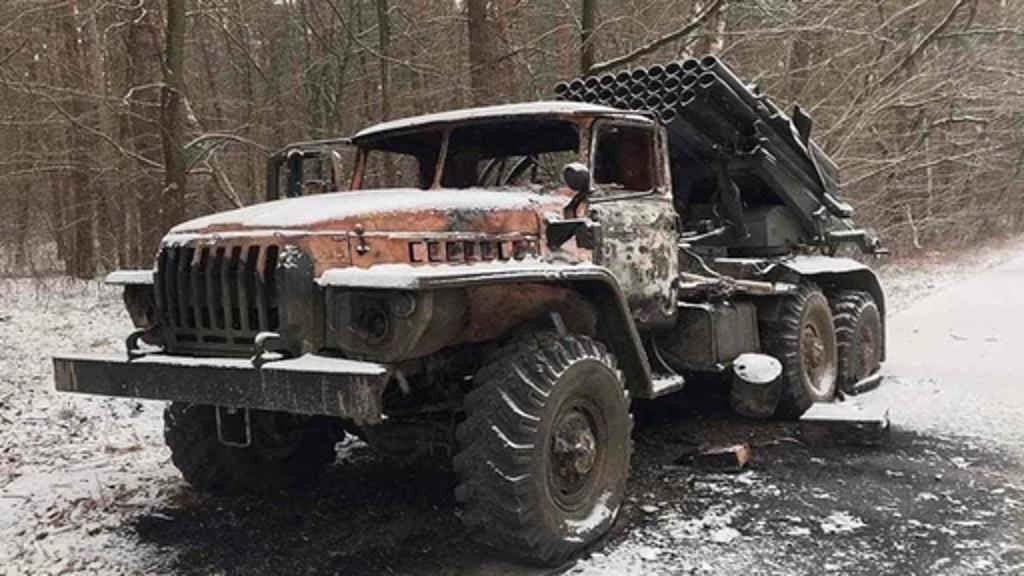MLRS: (42, 44, 900, 568)
